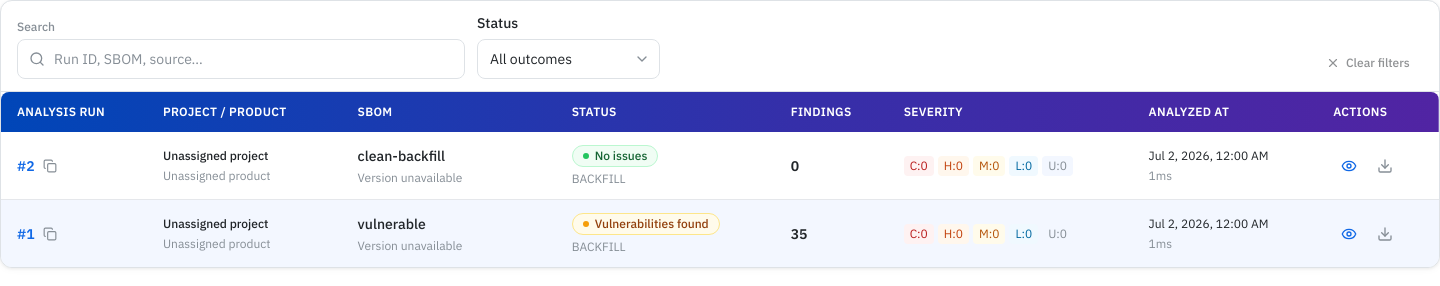
Test: RunsTable status classification › renders legacy PASS backfill rows as No issues and keeps them under the OK filter
This screenshot has width=1440, height=286.
Expected: the text "#2" is shown, [17, 156, 35, 176]
Expected: the text "No issues" is shown, [595, 148, 647, 164]
Step 1. Select "No issues" in the dropdown labelled "Status" → (568, 59), box [477, 39, 660, 79]
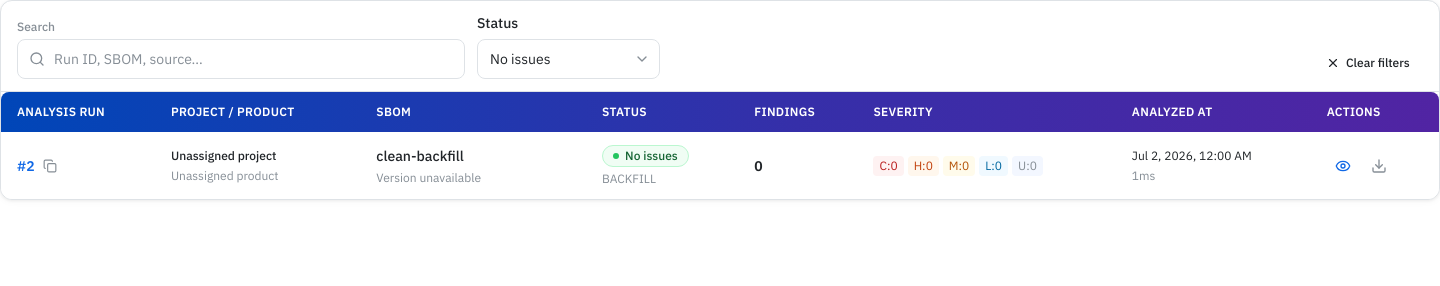
Expected: the link "#2" is shown, [17, 156, 35, 176]
Now the link "#1" is gone
